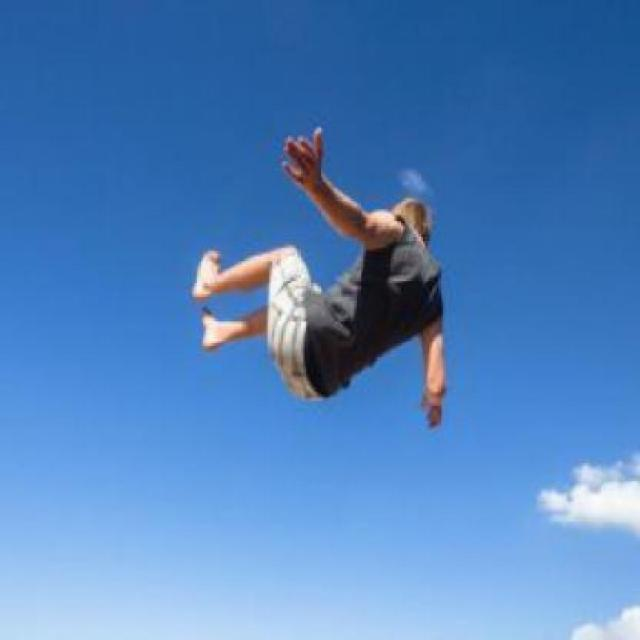fall: (174, 121, 463, 434)
